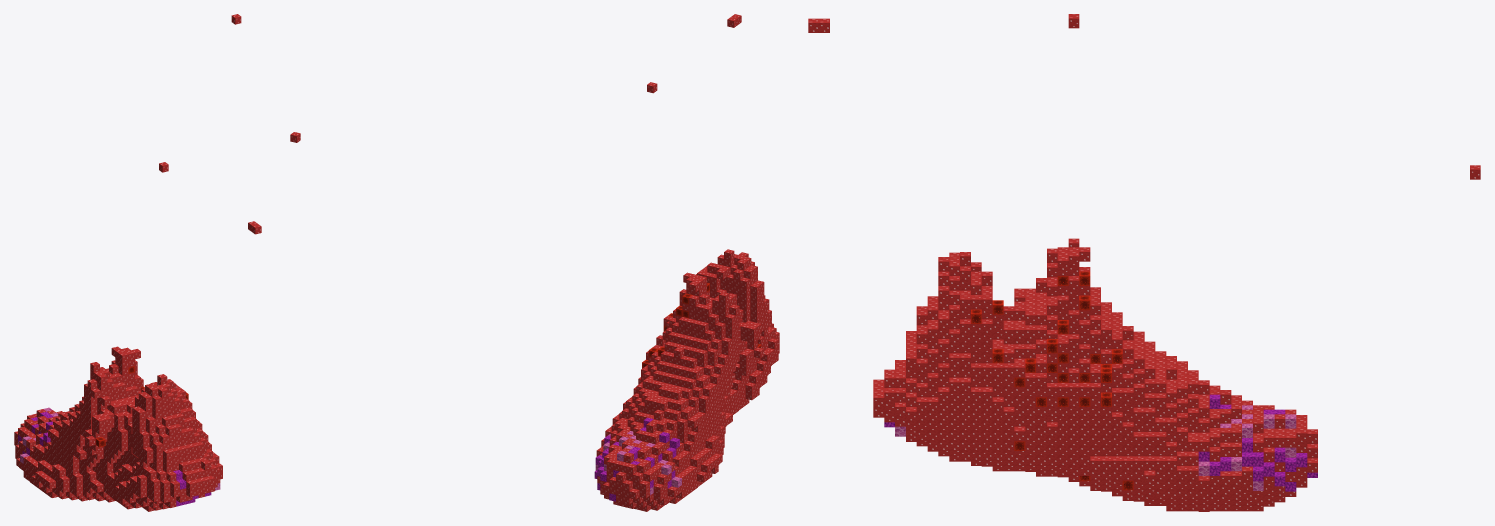
Rendered from nike.glb.
3 renders of one model, left to right at view 1: azimuth 30°, elevation 25°; view 2: azimuth 150°, elevation 25°; view 3: azimuth 270°, elevation 25°, orthographic. The views are drawn at different scales.
Parts seen in each view (by area): view 1: Object; view 2: Object; view 3: Object.
Part boxes in pixels (x1,y1,x2,y2): Object: (14, 14, 261, 511); Object: (290, 14, 779, 511); Object: (808, 14, 1480, 511).
Size of the model in its own units: 48 by 53 by 62.
Materials: 1 (1 with a texture image).
